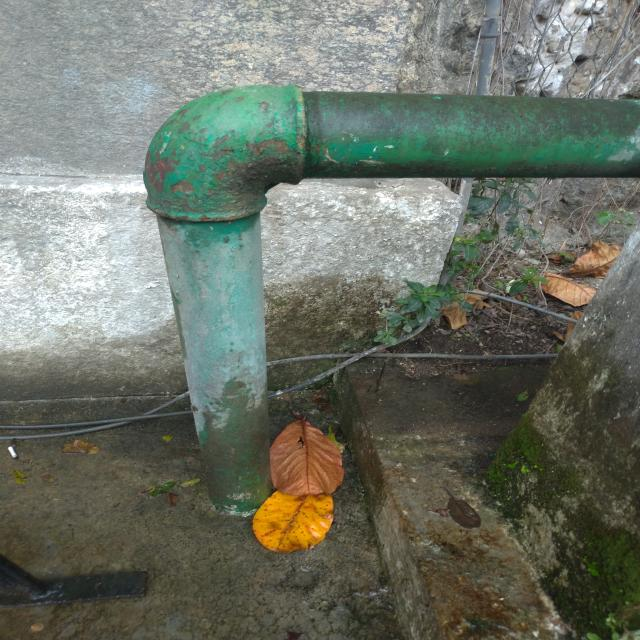gas: (145, 88, 637, 511)
